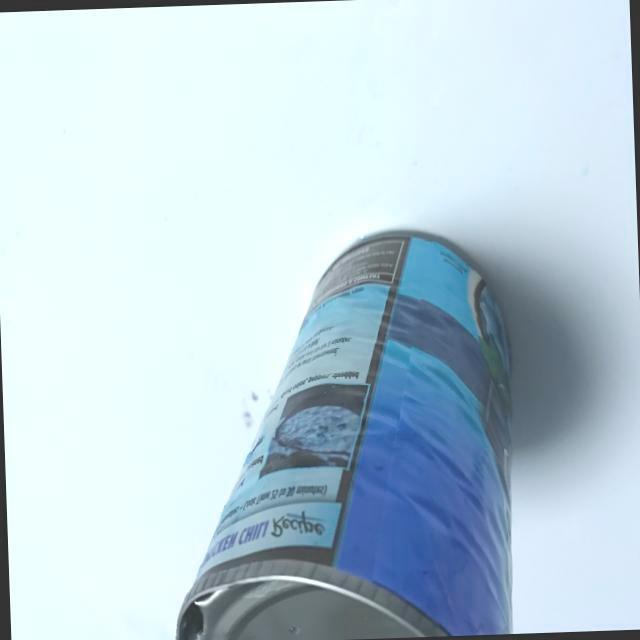metal: (132, 222, 552, 640)
